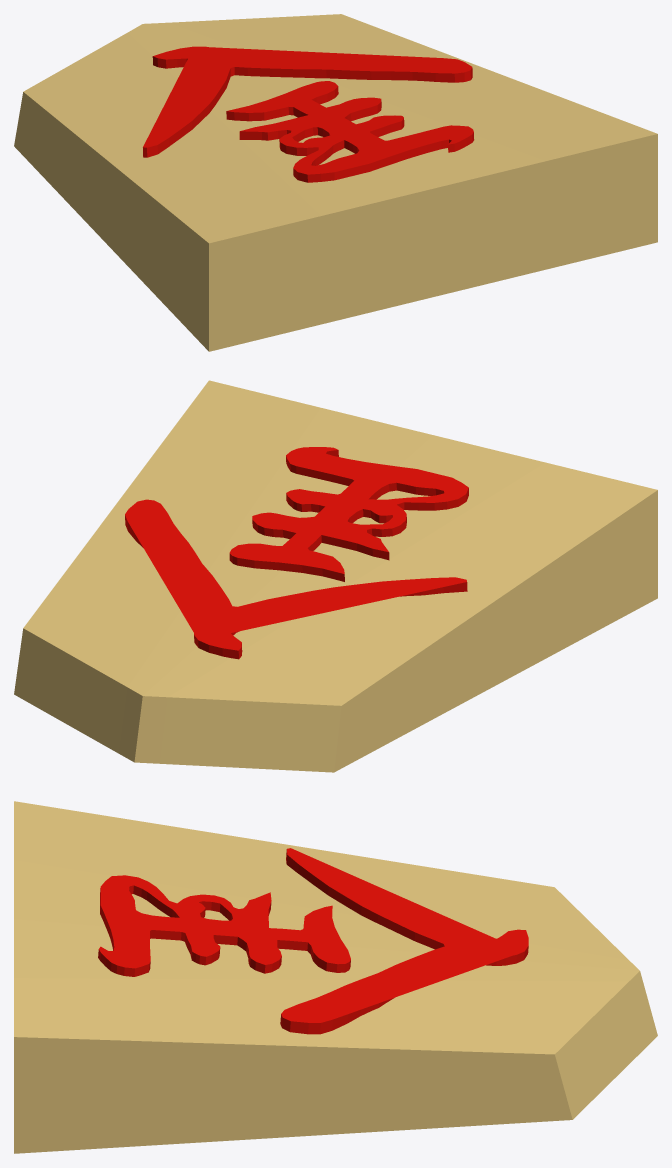
Rendered from ArgentDor.fbx.
3 renders of one model, top to bottom at view 1: azimuth 30°, elevation 25°; view 2: azimuth 150°, elevation 25°; view 3: azimuth 270°, elevation 25°, orthographic. The views are drawn at different scales.
Visible parts, largest first — view 1: ArgentDor; view 2: ArgentDor; view 3: ArgentDor.
Boxes of the visible parts, x1,y1,x2,y2 form: ArgentDor: [14, 14, 657, 351]; ArgentDor: [14, 380, 657, 772]; ArgentDor: [14, 801, 657, 1153].
Bounding box in the file's own units: 63.4 × 73.15 × 14.84.
